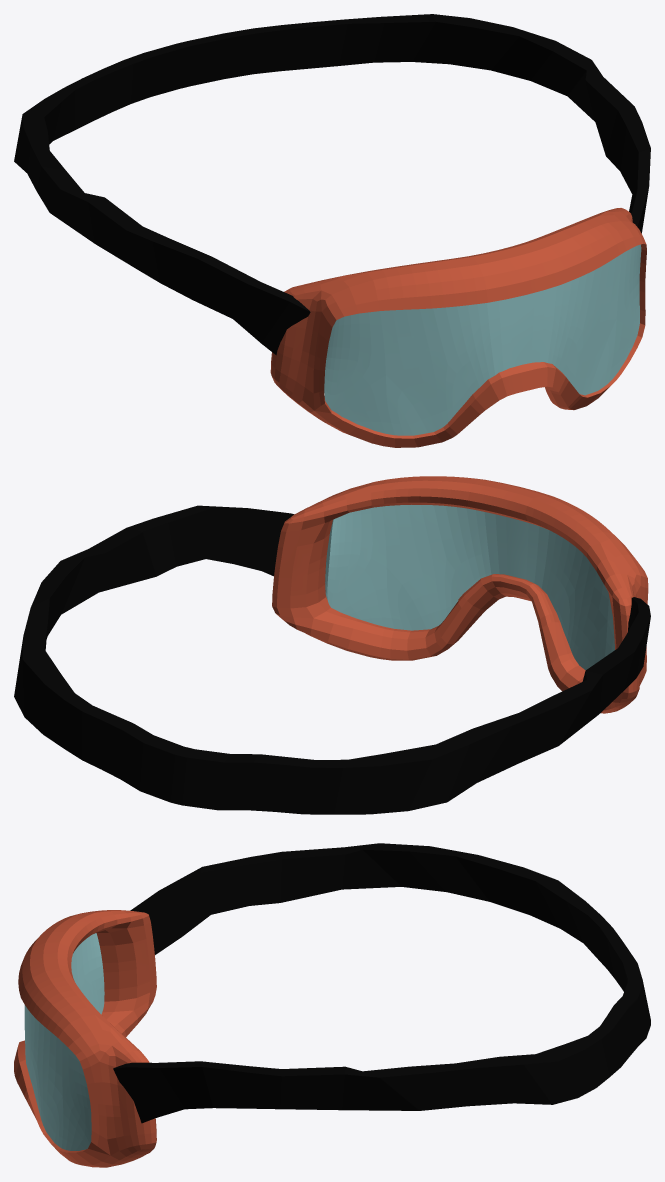
File: Goggles_Boy.fbx
The picture shows the model from 3 angles, top to bottom: view 1: azimuth 30°, elevation 25°; view 2: azimuth 150°, elevation 25°; view 3: azimuth 270°, elevation 25°; orthographic projection. The views are drawn at different scales.
Parts seen in each view (by area): view 1: Goggles; view 2: Goggles; view 3: Goggles.
Part boxes in pixels (<box>): Goggles: <box>14,14,650,447</box>; Goggles: <box>14,476,650,814</box>; Goggles: <box>14,843,650,1167</box>.
Bounding box in the file's own units: 47.04 × 15.34 × 53.99.
Materials: 1 (1 with a texture image).
